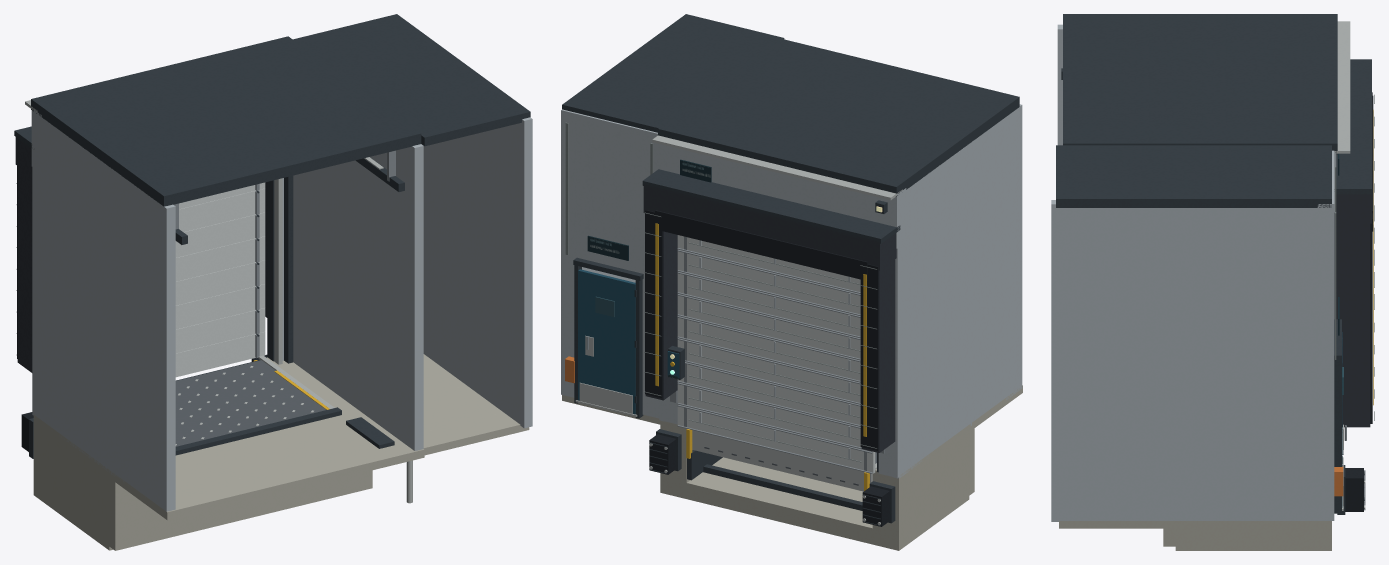
The picture shows the model from 3 angles, left to right: view 1: azimuth 30°, elevation 25°; view 2: azimuth 150°, elevation 25°; view 3: azimuth 270°, elevation 25°; orthographic projection. The views are drawn at different scales.
Visible parts, largest first — view 1: SHELL__VIS_CONCRETE_SIDE_WALL_-1.93, SHELL__VIS_CANOPY_ROOF_SLAB, SHELL__VIS_CONCRETE_SIDE_WALL_+1.93, SERVICE__VIS_SERVICE_RIGHT_WALL, SERVICE__VIS_SERVICE_CEILING, SHELL__VIS_WAREHOUSE_FINISHED_FLOOR, LEVELER__DECK__VIS_DIAMOND_TREAD_MAIN, SHELL__VIS_PIT_BACK_BEAM, SHELL__VIS_DOCK_FOUNDATION_LEFT, SERVICE__VIS_SERVICE_SLAB, SEALS__VIS_SIDE_SEAL_PAD_-1.81, SHELL__VIS_TRUCK_PORTAL_PIER_-1.84 (+13 smaller); view 2: SHELL__VIS_CONCRETE_SIDE_WALL_-1.93, SHELL__VIS_CANOPY_ROOF_SLAB, SERVICE__VIS_SERVICE_CEILING, SERVICE__VIS_SERVICE_FRONT_SPANDREL, SHELL__VIS_PIT_BASE, SERVICE_LEAF__VIS_SERVICE_STEEL_DOOR, SHELL__VIS_MASONRY_FRONT_LINTEL, SEALS__VIS_OVERHEAD_HEADER_FOAM, SHELL__VIS_DOCK_FOUNDATION_LEFT, SEALS__VIS_OVERHEAD_SEAL_TRIM, SEALS__VIS_HEADER_CURTAIN_FLAP, SHUTTER__PANEL_00__VIS_INSULATED_PANEL (+29 smaller); view 3: SERVICE__VIS_SERVICE_RIGHT_WALL, SHELL__VIS_CANOPY_ROOF_SLAB, SERVICE__VIS_SERVICE_CEILING, SEALS__VIS_SIDE_SEAL_PAD_+1.81, SHELL__VIS_DOCK_FOUNDATION_RIGHT, SEALS__VIS_OVERHEAD_SEAL_TRIM, SERVICE__VIS_SERVICE_FRONT_SPANDREL, SERVICE__VIS_SERVICE_FRONT_RIGHT_PIER, SERVICE__VIS_SERVICE_SLAB, SHELL__VIS_TOP_FACE_FLASHING, SEALS__VIS_OVERHEAD_HEADER_FOAM, SERVICE__VIS_SERVICE_JAMB_3.34 (+3 smaller).
Part boxes in pixels (bbox=[...]): SHELL__VIS_CONCRETE_SIDE_WALL_-1.93: bbox=[33, 112, 175, 511]; SHELL__VIS_CANOPY_ROOF_SLAB: bbox=[31, 36, 421, 206]; SHELL__VIS_CONCRETE_SIDE_WALL_+1.93: bbox=[293, 144, 423, 450]; SERVICE__VIS_SERVICE_RIGHT_WALL: bbox=[423, 117, 532, 428]; SERVICE__VIS_SERVICE_CEILING: bbox=[293, 14, 530, 146]; SHELL__VIS_WAREHOUSE_FINISHED_FLOOR: bbox=[112, 411, 424, 520]; LEVELER__DECK__VIS_DIAMOND_TREAD_MAIN: bbox=[175, 360, 325, 446]; SHELL__VIS_PIT_BACK_BEAM: bbox=[109, 409, 372, 550]; SHELL__VIS_DOCK_FOUNDATION_LEFT: bbox=[33, 419, 112, 550]; SERVICE__VIS_SERVICE_SLAB: bbox=[423, 354, 529, 455]; SEALS__VIS_SIDE_SEAL_PAD_-1.81: bbox=[17, 166, 32, 372]; SHELL__VIS_TRUCK_PORTAL_PIER_-1.84: bbox=[32, 159, 40, 419]; SHELL__VIS_CONCRETE_SIDE_WALL_-1.93: bbox=[894, 104, 1022, 478]; SHELL__VIS_CANOPY_ROOF_SLAB: bbox=[658, 38, 1019, 196]; SERVICE__VIS_SERVICE_CEILING: bbox=[562, 14, 784, 132]; SERVICE__VIS_SERVICE_FRONT_SPANDREL: bbox=[561, 109, 658, 278]; SHELL__VIS_PIT_BASE: bbox=[686, 457, 872, 544]; SERVICE_LEAF__VIS_SERVICE_STEEL_DOOR: bbox=[578, 269, 635, 414]; SHELL__VIS_MASONRY_FRONT_LINTEL: bbox=[658, 144, 906, 248]; SEALS__VIS_OVERHEAD_HEADER_FOAM: bbox=[643, 184, 896, 270]; SHELL__VIS_DOCK_FOUNDATION_LEFT: bbox=[872, 430, 969, 550]; SEALS__VIS_OVERHEAD_SEAL_TRIM: bbox=[642, 169, 900, 243]; SEALS__VIS_HEADER_CURTAIN_FLAP: bbox=[655, 210, 867, 280]; SHUTTER__PANEL_00__VIS_INSULATED_PANEL: bbox=[677, 404, 875, 473]; SERVICE__VIS_SERVICE_RIGHT_WALL: bbox=[1051, 200, 1317, 521]; SHELL__VIS_CANOPY_ROOF_SLAB: bbox=[1063, 14, 1337, 154]; SERVICE__VIS_SERVICE_CEILING: bbox=[1056, 145, 1331, 207]; SEALS__VIS_SIDE_SEAL_PAD_+1.81: bbox=[1334, 223, 1370, 427]; SHELL__VIS_DOCK_FOUNDATION_RIGHT: bbox=[1175, 528, 1331, 550]; SEALS__VIS_OVERHEAD_SEAL_TRIM: bbox=[1334, 59, 1371, 194]; SERVICE__VIS_SERVICE_FRONT_SPANDREL: bbox=[1317, 150, 1334, 369]; SERVICE__VIS_SERVICE_FRONT_RIGHT_PIER: bbox=[1317, 369, 1334, 520]; SERVICE__VIS_SERVICE_SLAB: bbox=[1059, 521, 1331, 528]; SHELL__VIS_TOP_FACE_FLASHING: bbox=[1334, 21, 1350, 153]; SEALS__VIS_OVERHEAD_HEADER_FOAM: bbox=[1334, 194, 1371, 223]; SERVICE__VIS_SERVICE_JAMB_3.34: bbox=[1334, 360, 1341, 513].
Bounding box in the file's own units: 5.65 × 5.86 × 4.21.
Materials: 18 (18 with a texture image).
